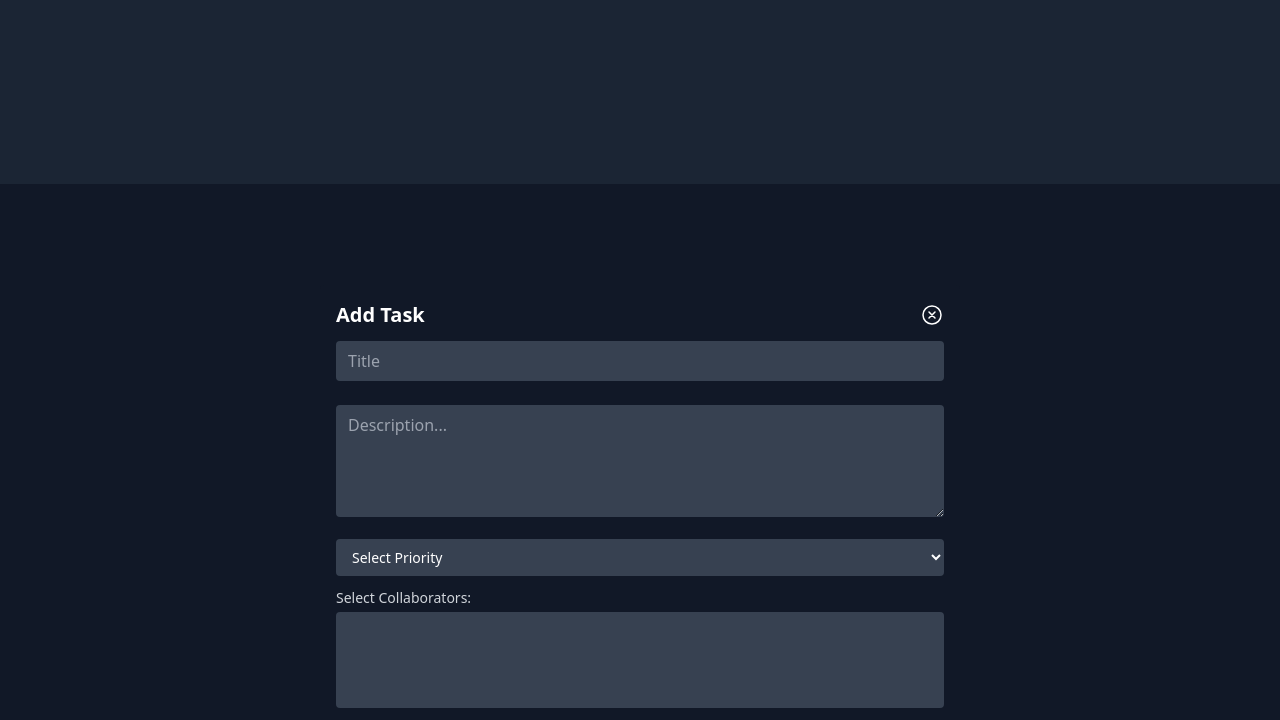
Test case: InputData Component › handles form submission correctly
(page scrolled)
# Fill in the form fields
Type "New Task" into the field with placeholder "Title".
click(640, 360); type("New Task")  # box top-left (336, 340), bottom-right (944, 380)
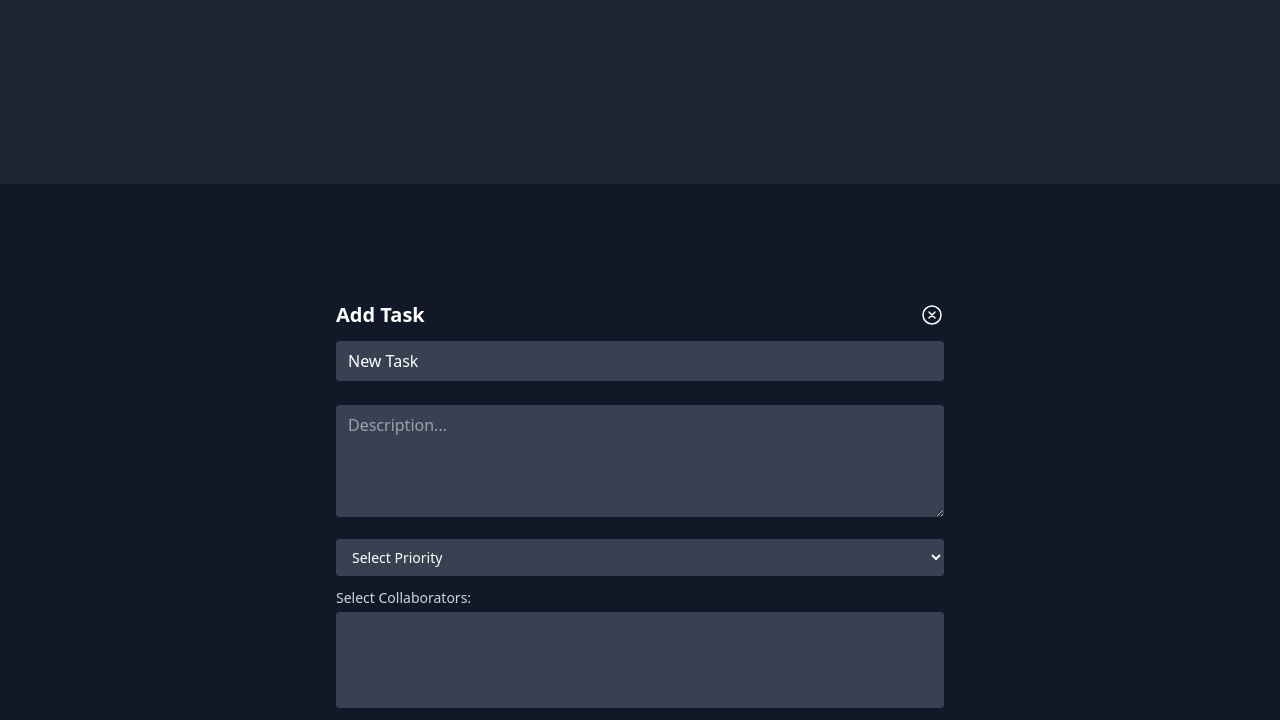
Type "This is a new task" into the text box with placeholder "Description...".
click(640, 460); type("This is a new task")  # box top-left (336, 404), bottom-right (944, 516)
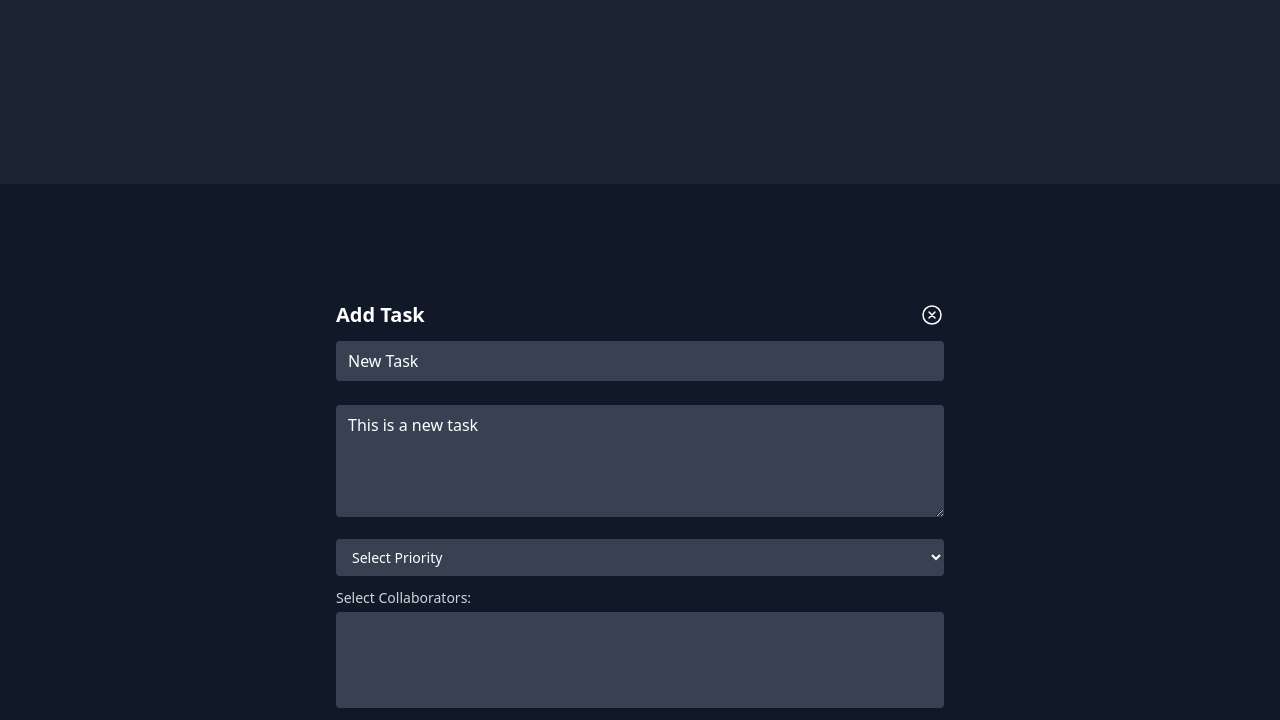
Select "High" in the 1st dropdown with placeholder "Select Priority" at (640, 557), box top-left (336, 538), bottom-right (944, 576)
(page scrolled)
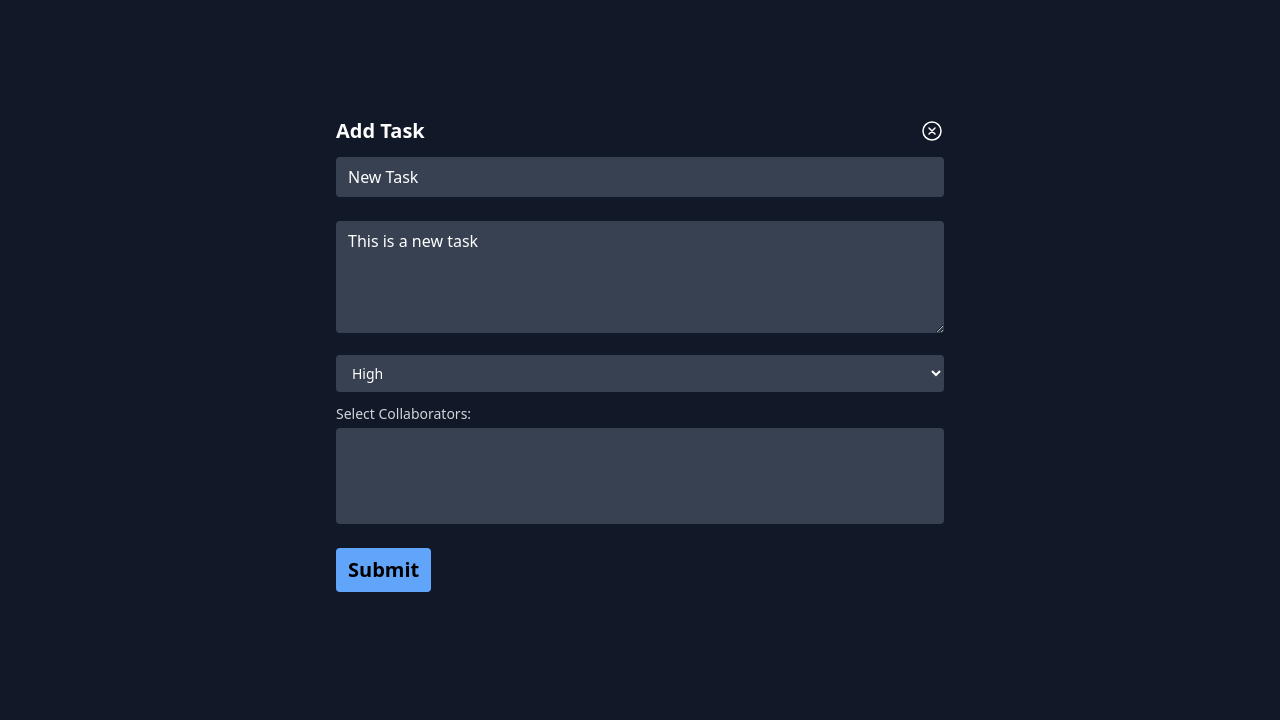
Click the button "Submit".
click(384, 570)  # box top-left (336, 548), bottom-right (431, 592)
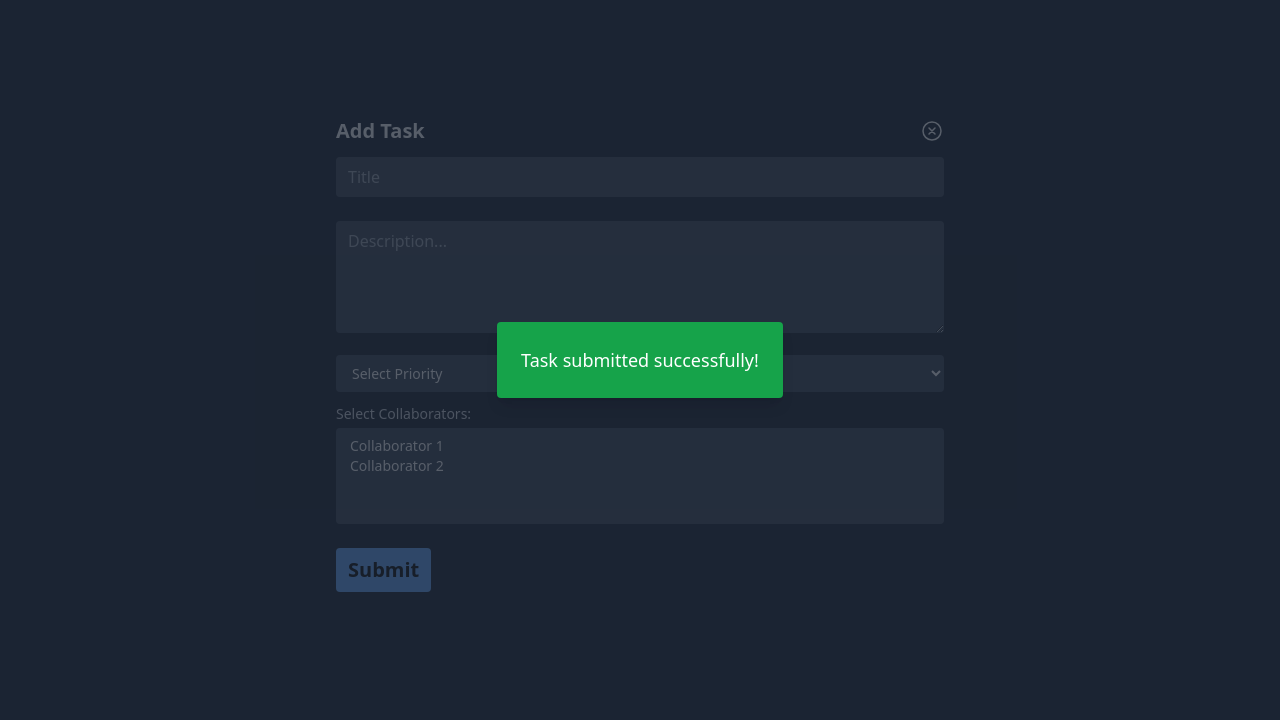
Now the text "Task submitted successfully!" is shown, box top-left (521, 346), bottom-right (759, 374)
